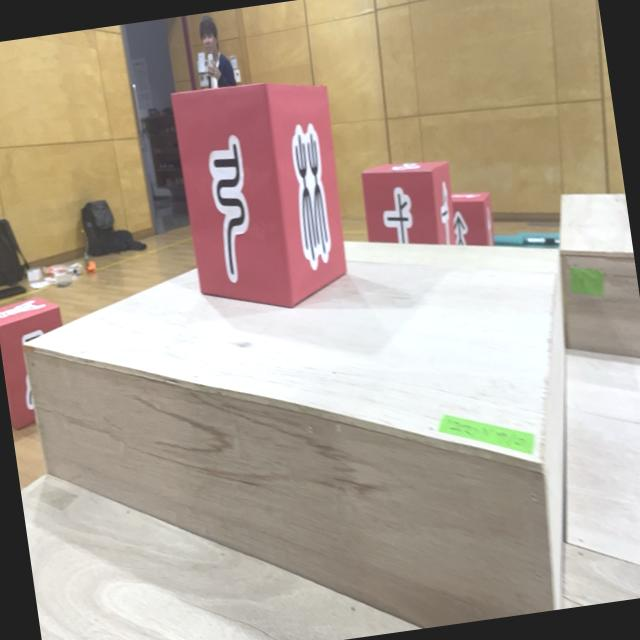12: (452, 208, 472, 245)
2: (284, 120, 337, 272)
4: (204, 133, 261, 288)
9: (379, 182, 418, 248), (437, 181, 454, 242)
fighter: (170, 71, 357, 321), (0, 291, 77, 431), (360, 154, 460, 256), (451, 188, 496, 252)
